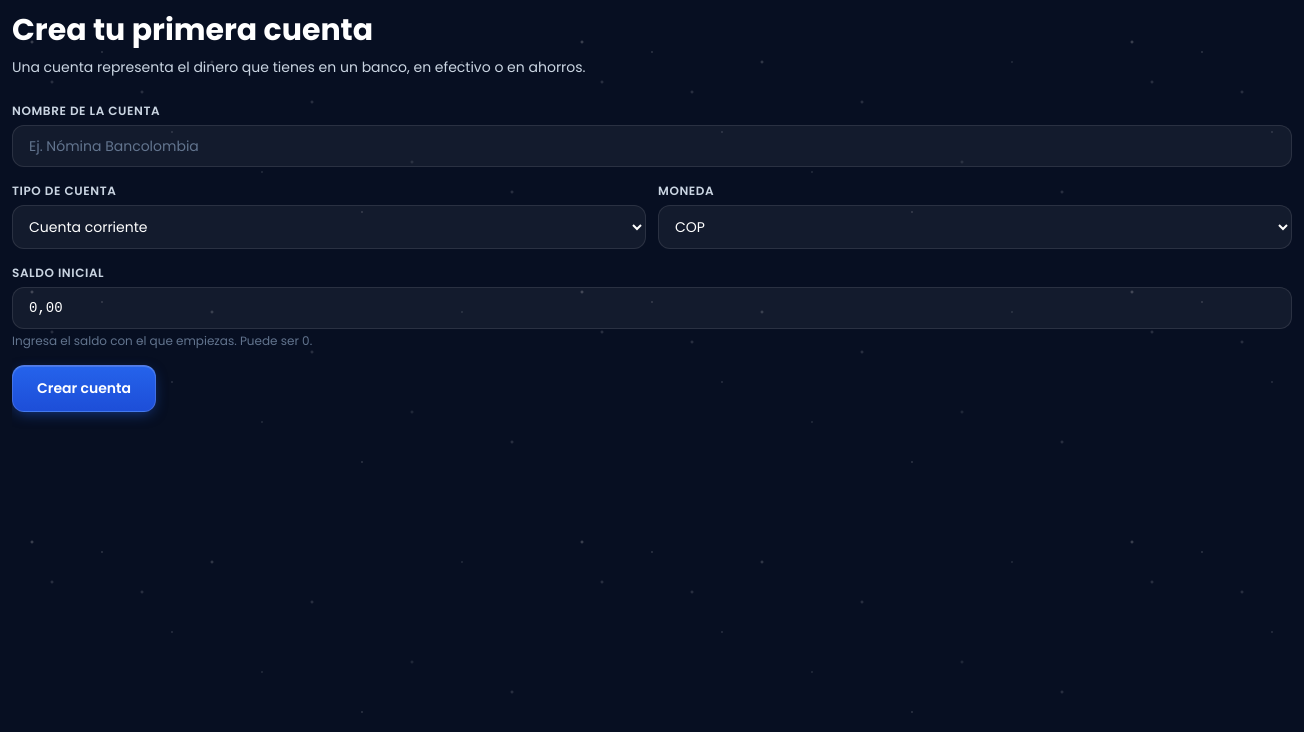
Scenario: StepFirstAccount › shows the required-name error when submitting an empty form
This screenshot has width=1304, height=732.
Click the button "Crear cuenta": click(84, 388) [12,365,156,412]
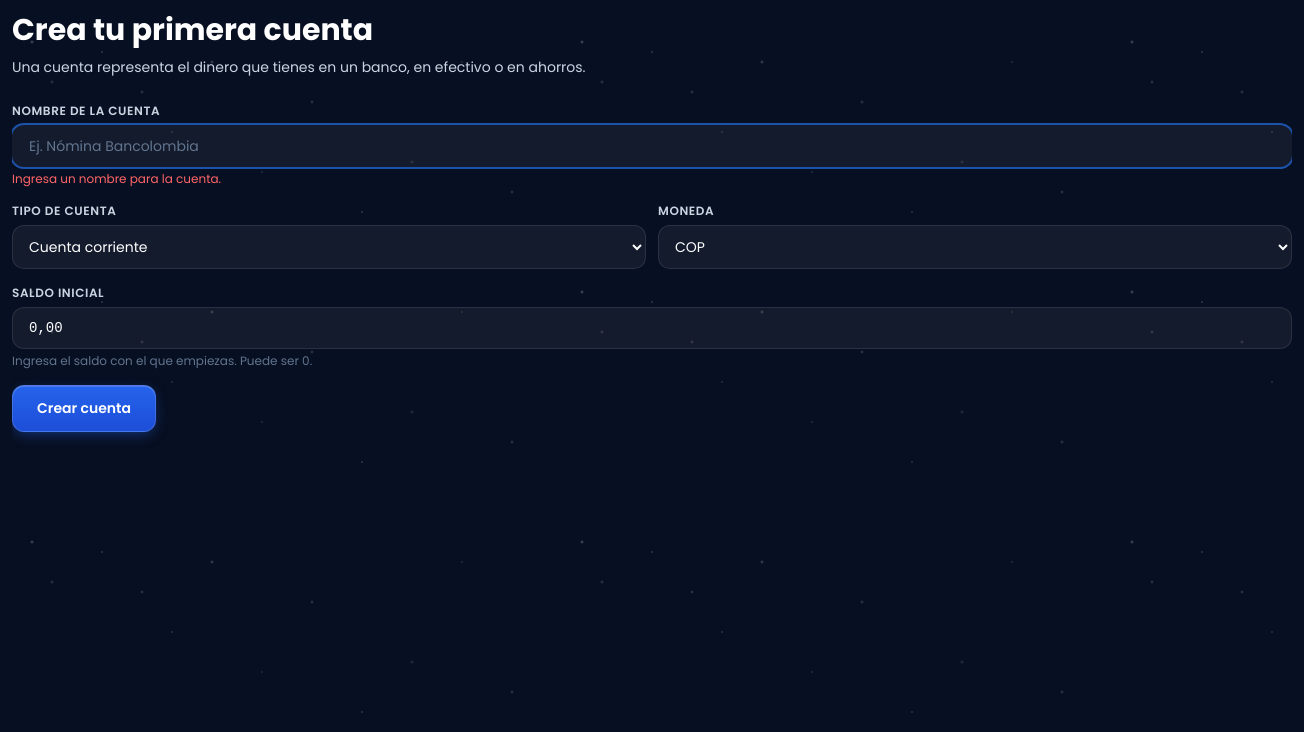
Result: the message reads "Ingresa un nombre para la cuenta." at [12,170,221,187]
